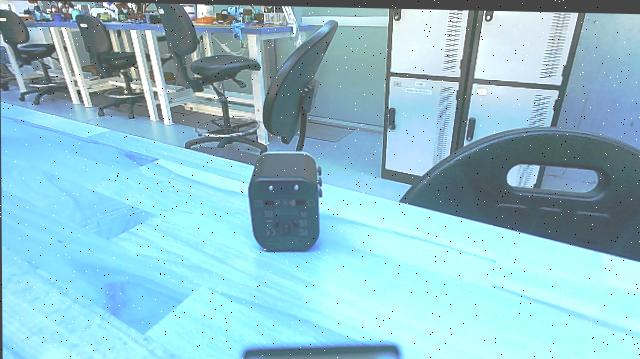adapter: (235, 135, 329, 261)
